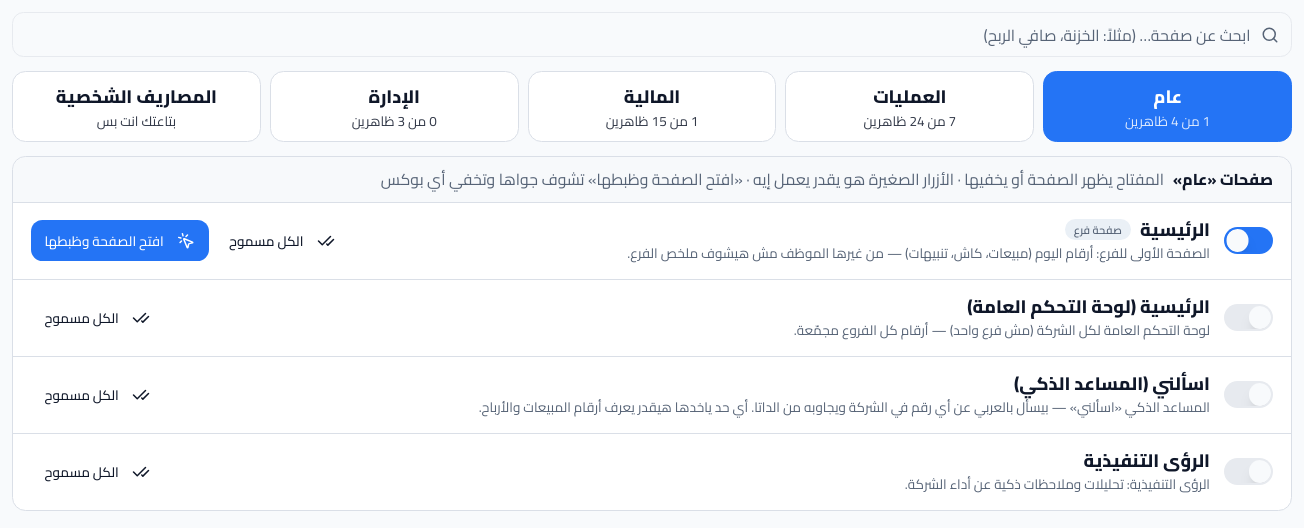
Test case: PermissionEditor › the personal-expenses tab only explains, it changes nothing
Click the tab "المصاريف الشخصية بتاعتك انت بس" at (136, 106), box [12,70,261,142]
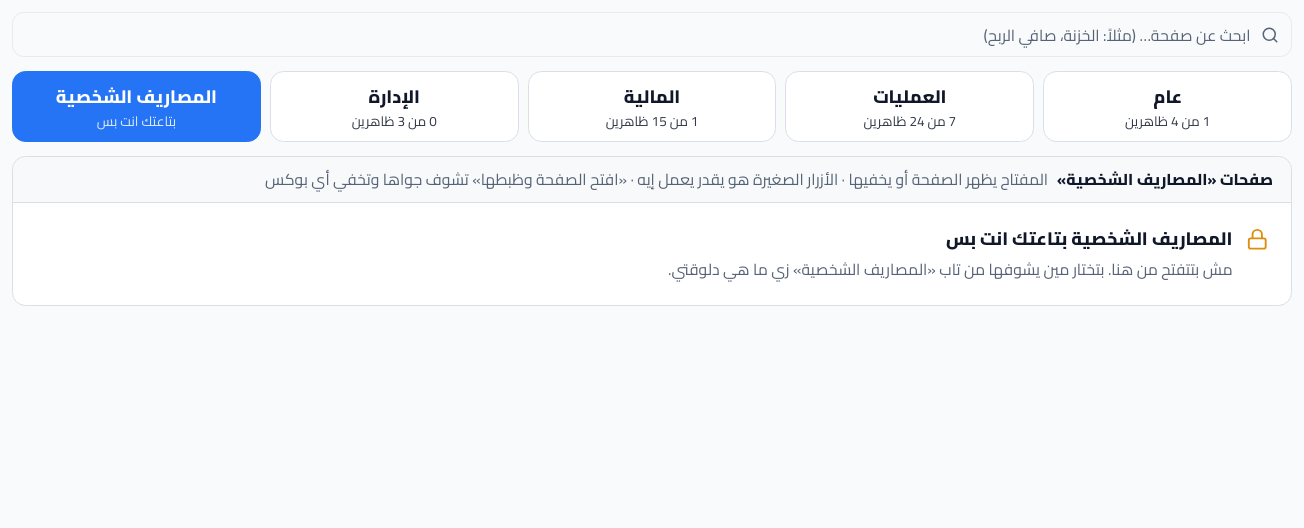
Now the text "المصاريف الشخصية بتاعتك انت بس" is shown, box [946,222,1232,255]
Now no switches are shown
